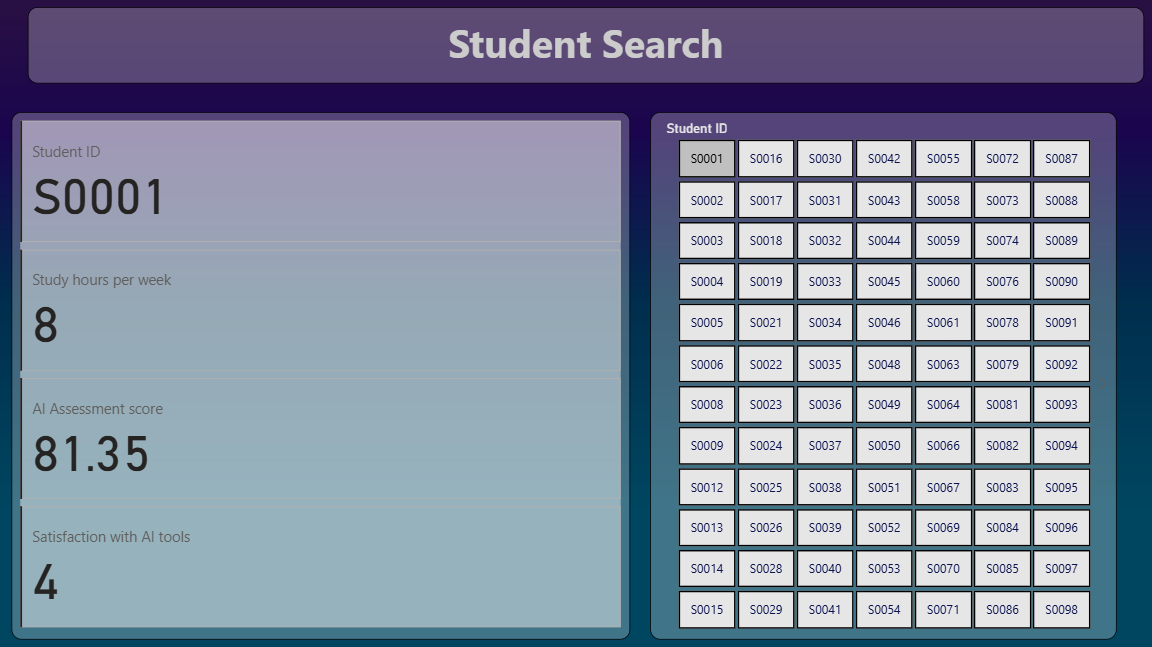

The page's visual inventory and layout, read from the dashboard file:
{"tool":"powerbi","page":{"name":"STUDENT SEARCH","canvas":[1280,720],"ordinal":2},"visuals":[{"type":"cardVisual","fields":{"Data":["Min(Data (3).Student_ID)","Sum(Data (3).Hours_Spent_Studying_per_Week)","Sum(Data (3).AI_Assessment_Score)","Sum(Data (3).Satisfaction_with_AI_Tools)"]},"box":[24.7,126.2,679.2,579.1],"z":0},{"type":"slicer","fields":{"Values":["Data (3).Student_ID"]},"box":[725.9,126.2,511.8,579.1],"z":1000},{"type":"textbox","box":[42.5,11,1225.4,83.7],"z":2000}]}

Visuals, with their boxes in screenshot pixels (x1, y1, x2, y2), scaled from the page's 1280x720 canvas onto the 1152x647 screenshot:
cardVisual - Min(Data (3).Student_ID) x Sum(Data (3).Hours_Spent_Studying_per_Week): 22,113,634,634
slicer - Data (3).Student_ID: 653,113,1114,634
textbox: 38,10,1141,85
